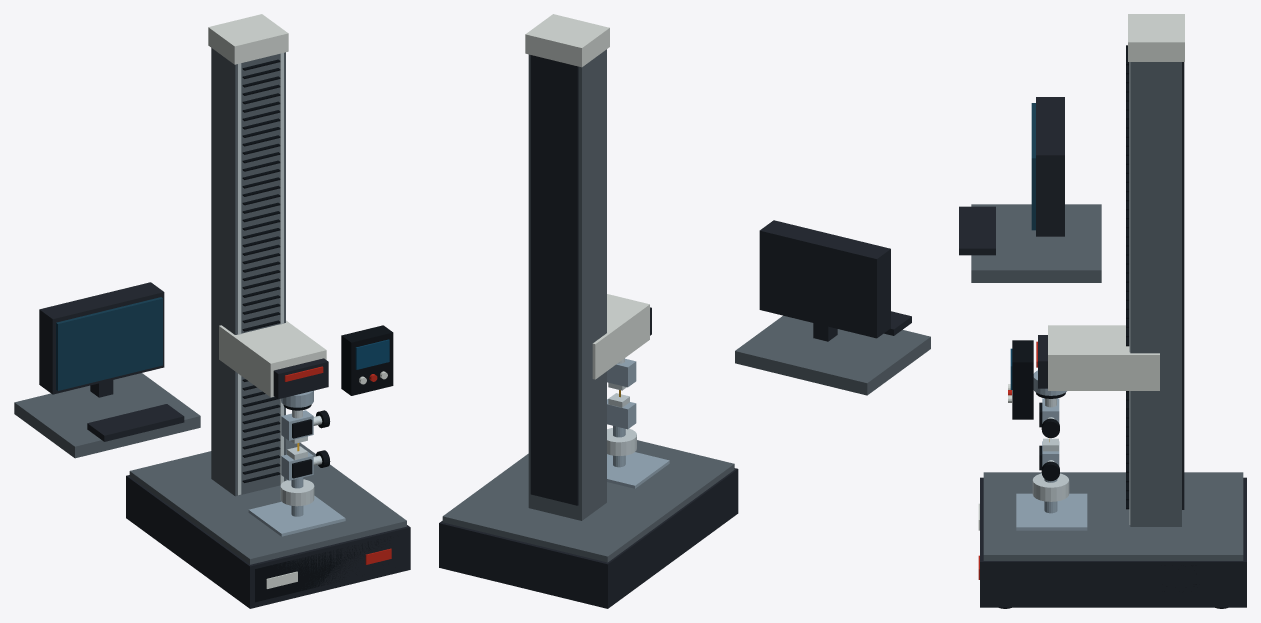
File: instron-5944.glb
3 renders of one model, left to right at view 1: azimuth 30°, elevation 25°; view 2: azimuth 150°, elevation 25°; view 3: azimuth 270°, elevation 25°, orthographic. The views are drawn at different scales.
Parts seen in each view (by area): view 1: frame, console, host_panel, crosshead, pendant, upper_grip, lower_grip; view 2: frame, console, crosshead, lower_grip, upper_grip; view 3: frame, console, crosshead, pendant, upper_grip, host_panel, lower_grip.
Part boxes in pixels (<box>): frame: <box>126,14,410,608</box>; console: <box>14,282,200,458</box>; host_panel: <box>56,297,162,390</box>; crosshead: <box>219,320,328,418</box>; pendant: <box>341,325,393,395</box>; upper_grip: <box>281,410,330,440</box>; lower_grip: <box>281,450,330,480</box>; frame: <box>439,14,738,608</box>; console: <box>735,220,930,395</box>; crosshead: <box>592,294,651,379</box>; lower_grip: <box>607,399,636,429</box>; upper_grip: <box>607,358,636,387</box>; frame: <box>978,14,1246,608</box>; console: <box>959,97,1101,282</box>; crosshead: <box>1033,325,1159,407</box>; pendant: <box>1008,340,1033,419</box>; upper_grip: <box>1039,398,1059,438</box>; host_panel: <box>1031,103,1035,230</box>; lower_grip: <box>1039,441,1059,480</box>.
Size of the model in its own units: 0.9715 by 1.38 by 0.6625.
